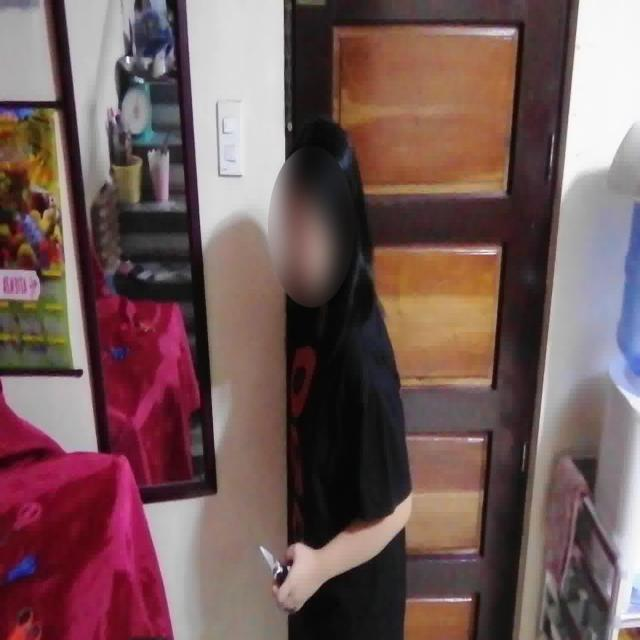scissor: (261, 544, 292, 588)
